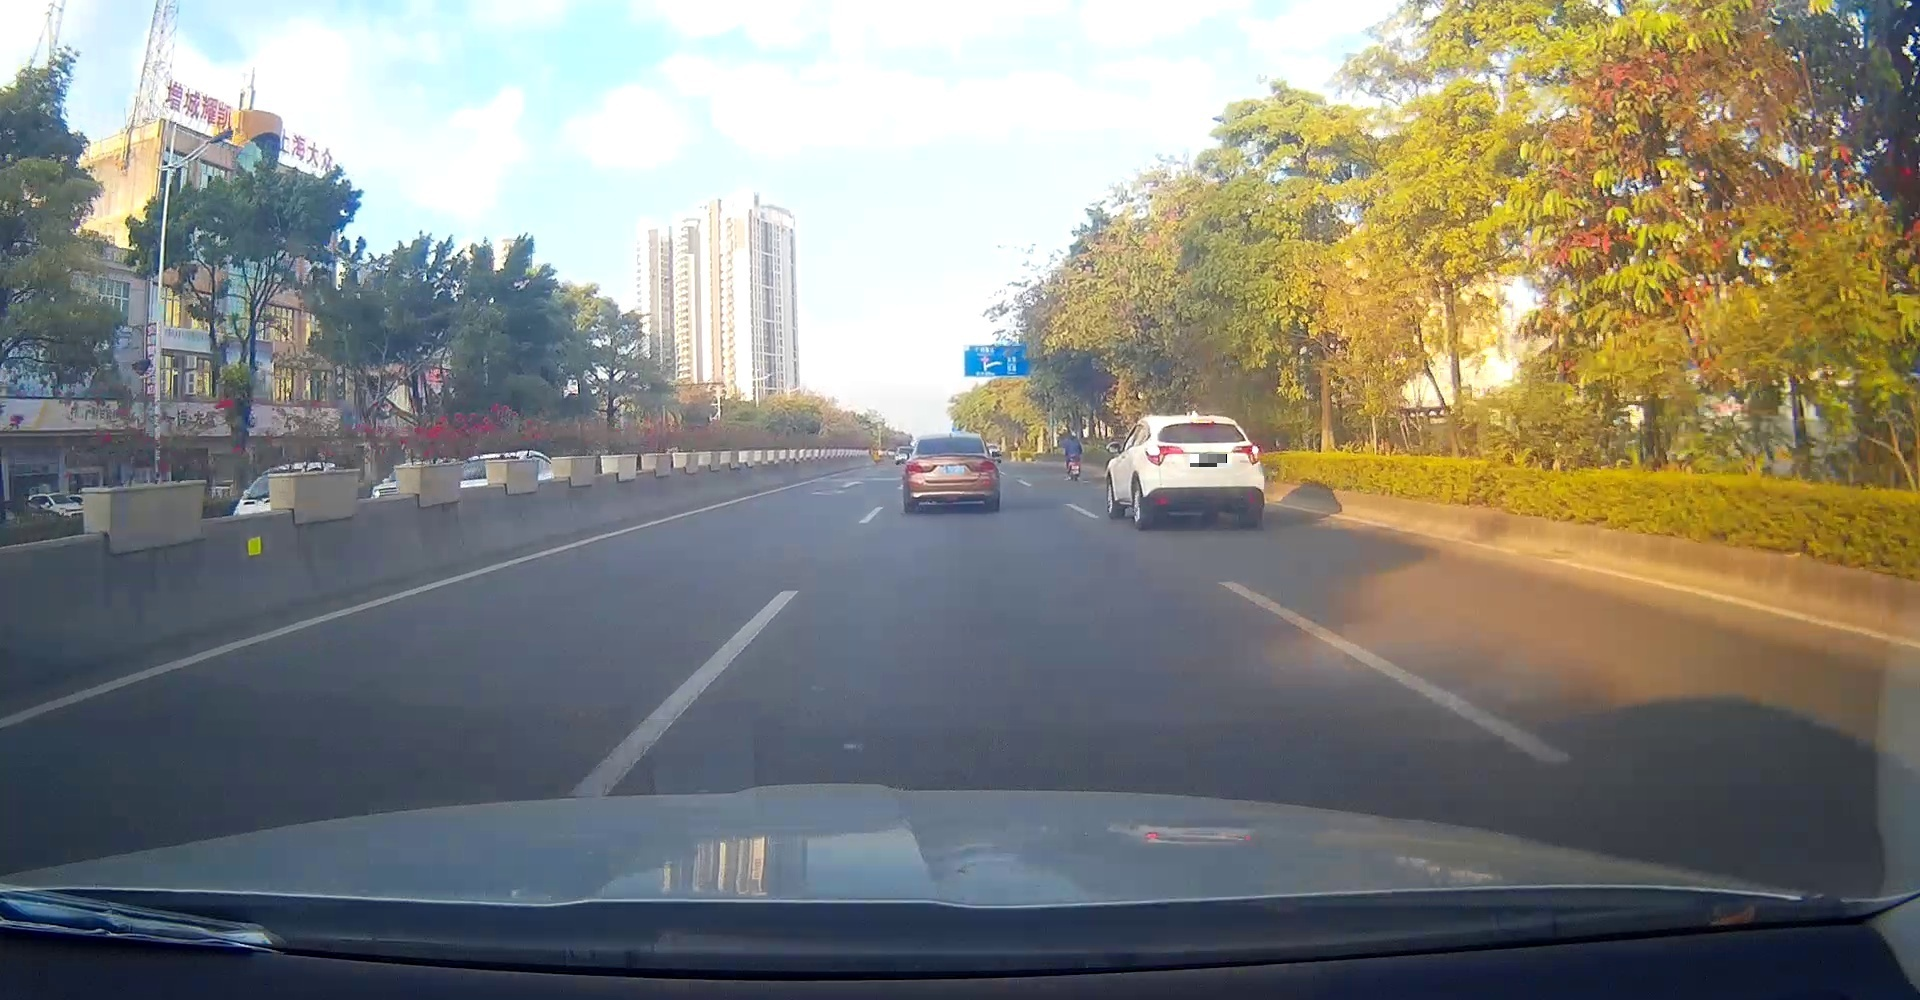L_light: (1144, 445, 1185, 466), (905, 461, 924, 473)
R_light: (1232, 444, 1261, 464), (977, 461, 997, 475)
T_light: (1190, 419, 1213, 424), (943, 451, 960, 453)
day-brake: (1144, 415, 1263, 527)
day-no: (905, 433, 997, 510)
plate_1: (1190, 454, 1227, 467)
